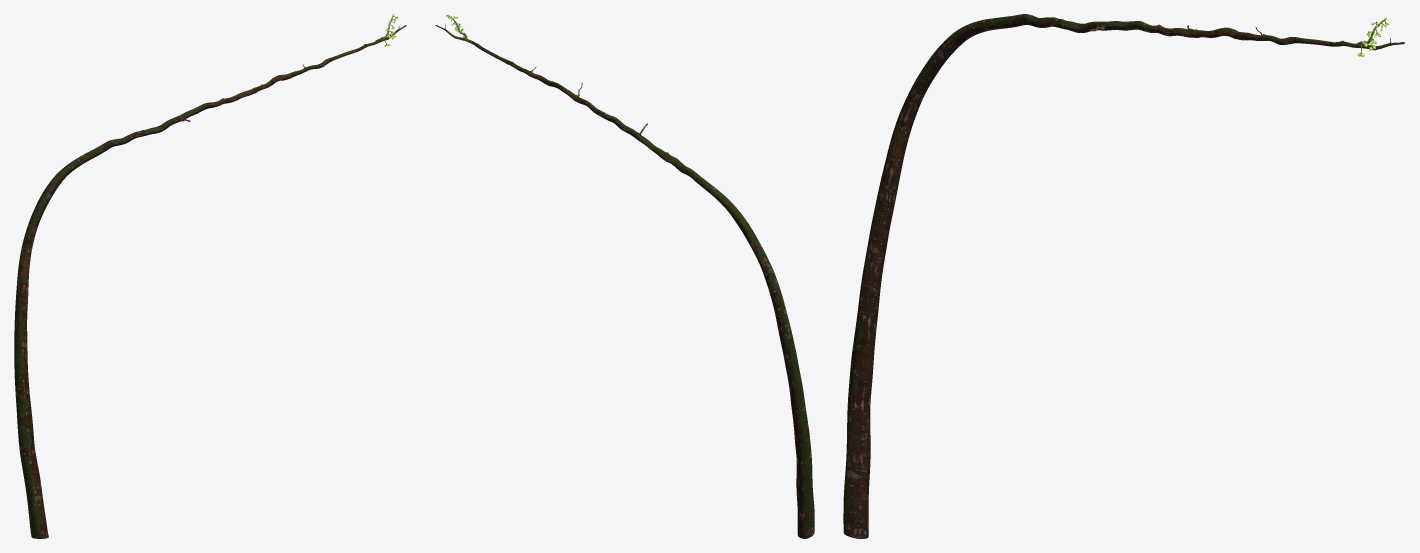
The model's file is branch.glb.
3 renders of one model, left to right at view 1: azimuth 30°, elevation 25°; view 2: azimuth 150°, elevation 25°; view 3: azimuth 330°, elevation 25°, orthographic. The views are drawn at different scales.
Parts seen in each view (by area): view 1: perch; view 2: perch; view 3: perch.
Part boxes in pixels (left/top/right/bottom): perch: left=14, top=25, right=406, bottom=538; perch: left=435, top=25, right=814, bottom=538; perch: left=843, top=14, right=1404, bottom=538.
Bounding box in the file's own units: 10.63 × 11.64 × 1.6.
4 materials, 4 textured.
